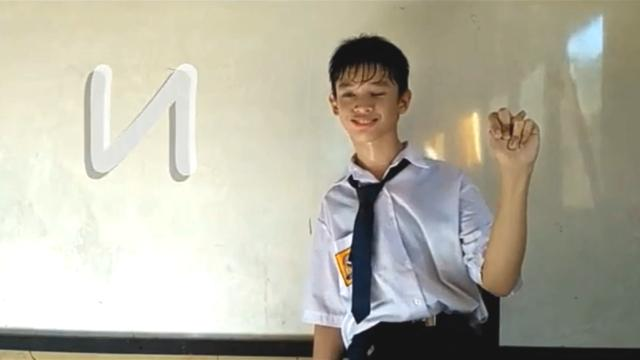N: (487, 104, 541, 166)
